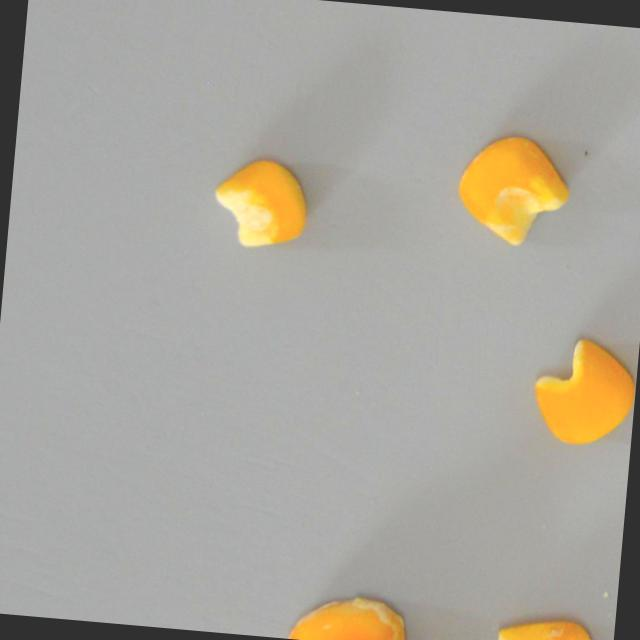no_canjicado: (525, 329, 640, 452)
no_desgerminado: (202, 146, 317, 261)
pelicula: (449, 128, 577, 252), (281, 586, 412, 640), (494, 610, 603, 640)
